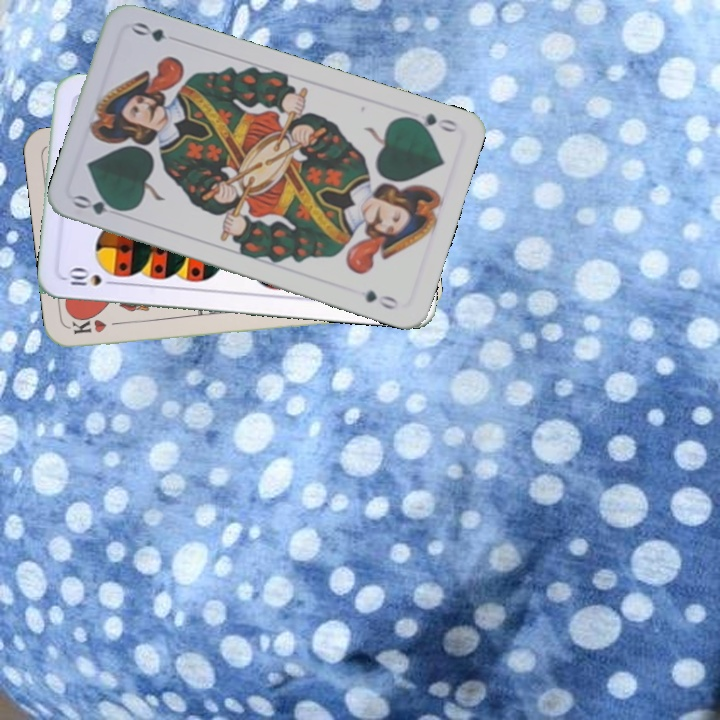GO: (69, 191, 130, 220), (402, 109, 460, 135)
HK: (68, 315, 128, 337)
S10: (61, 266, 121, 288)
